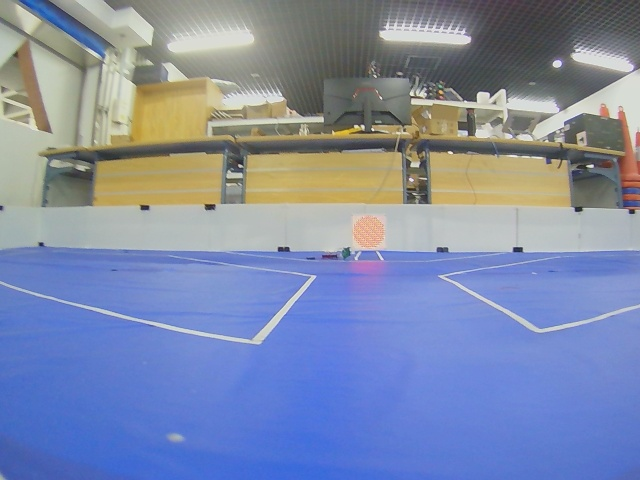red: (352, 215, 386, 250)
